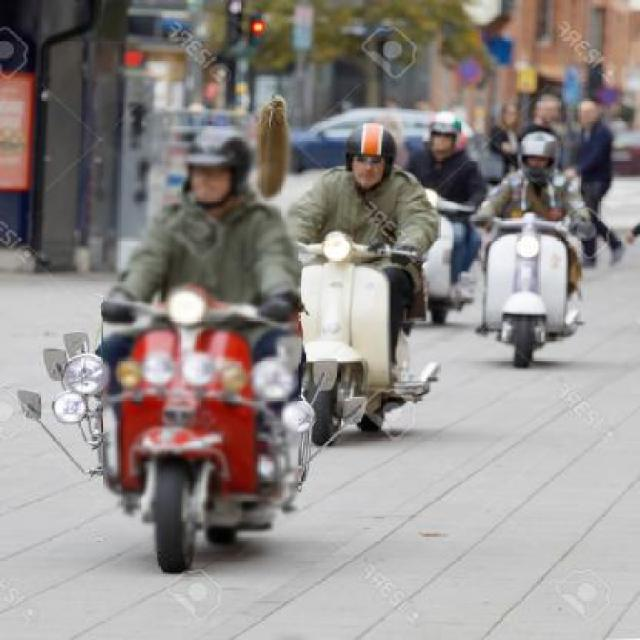helmet: (154, 115, 265, 216), (337, 112, 403, 208), (515, 129, 567, 187)
motorcycle: (35, 120, 323, 584), (286, 114, 446, 457), (483, 129, 587, 365)
